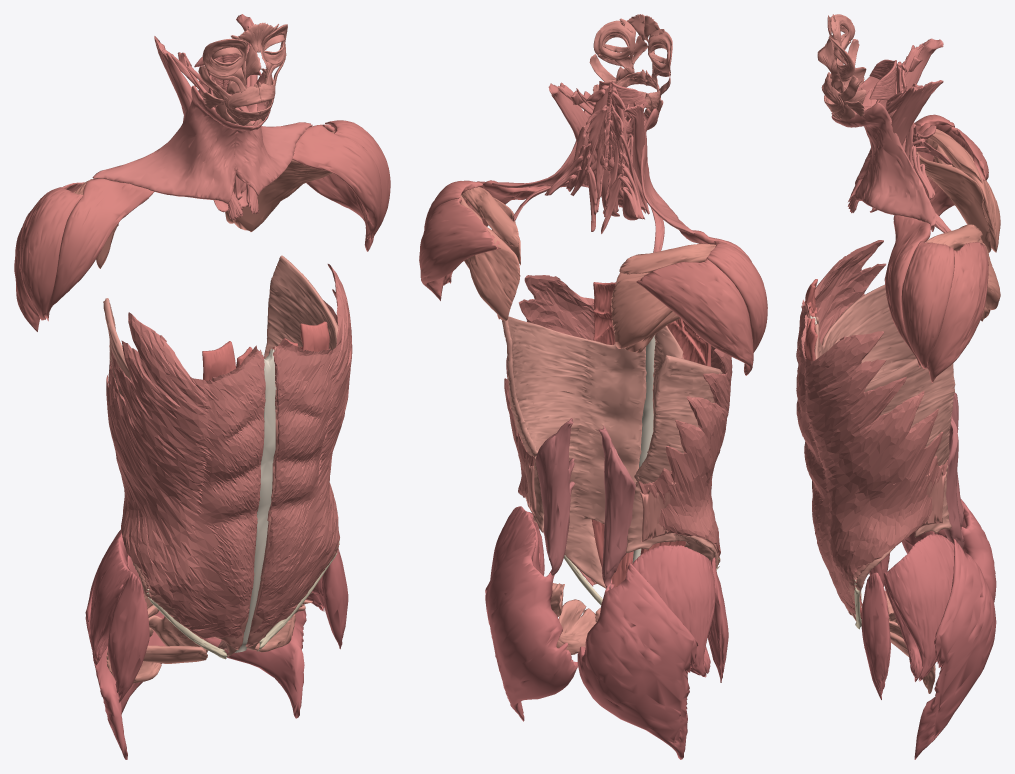
File: z-anatomy-1.3.0-muscular.glb
The picture shows the model from 3 angles, left to right: view 1: azimuth 30°, elevation 25°; view 2: azimuth 150°, elevation 25°; view 3: azimuth 270°, elevation 25°; orthographic projection. The views are drawn at different scales.
Visible parts, largest first — view 1: external-abdominal-obliques-external-abdominal-oblique-muscl (×2), neck-muscles-platysma-right__Platysma.r, deltoid-muscles-clavicular-part-of-deltoid-muscle-right__Cla, deltoid-muscles-acromial-part-of-deltoid-muscle-right__Acrom, deltoid-muscles-clavicular-part-of-deltoid-muscle-left__Clav, transversus-abdominis-transversus-abdominis-muscle-left__Tra, neck-muscles-platysma-left__Platysma.l, superficial-gluteal-muscles-tensor-fasciae-latae-right__Tens, linea-alba__Linea alba, superficial-gluteal-muscles-gluteus-maximus-muscle-left__Glu, superficial-gluteal-muscles-gluteus-medius-muscle-right__Glu, rotator-cuff-muscles-subscapularis-muscle-left__Subscapulari (+14 smaller); view 2: transversus-abdominis-transversus-abdominis-muscle-left__Tra, superficial-gluteal-muscles-gluteus-maximus-muscle-right__Gl, external-abdominal-obliques-external-abdominal-oblique-muscl (×2), superficial-gluteal-muscles-gluteus-maximus-muscle-left__Glu, transversus-abdominis-transversus-abdominis-muscle-right__Tr, deltoid-muscles-scapular-spinal-part-of-deltoid-muscle-right, superficial-gluteal-muscles-gluteus-medius-muscle-right__Glu, deltoid-muscles-scapular-spinal-part-of-deltoid-muscle-left_, quadratus-lumborum-quadratus-lumborum-muscle-left__Quadratus, quadratus-lumborum-quadratus-lumborum-muscle-right__Quadratu, rotator-cuff-muscles-infraspinatus-muscle-left__Infraspinatu, rotator-cuff-muscles-infraspinatus-muscle-right__Infraspinat (+19 smaller); view 3: external-abdominal-obliques-external-abdominal-oblique-muscl (×2), superficial-gluteal-muscles-gluteus-maximus-muscle-left__Glu, superficial-gluteal-muscles-gluteus-medius-muscle-left__Glut, neck-muscles-platysma-left__Platysma.l, deltoid-muscles-acromial-part-of-deltoid-muscle-left__Acromi, transversus-abdominis-transversus-abdominis-muscle-left__Tra, deltoid-muscles-scapular-spinal-part-of-deltoid-muscle-left_, transversus-abdominis-transversus-abdominis-muscle-right__Tr, superficial-gluteal-muscles-tensor-fasciae-latae-left__Tenso, deltoid-muscles-clavicular-part-of-deltoid-muscle-left__Clav, rotator-cuff-muscles-subscapularis-muscle-right__Subscapular, superficial-gluteal-muscles-gluteus-maximus-muscle-right__Gl (+18 smaller).
Boxes of the visible parts, bbox=[...] form: external-abdominal-obliques-external-abdominal-oblique-muscl (×2): bbox=[106, 264, 352, 638]; neck-muscles-platysma-right__Platysma.r: bbox=[92, 85, 255, 203]; deltoid-muscles-clavicular-part-of-deltoid-muscle-right__Cla: bbox=[46, 178, 154, 321]; deltoid-muscles-acromial-part-of-deltoid-muscle-right__Acrom: bbox=[19, 187, 82, 320]; deltoid-muscles-clavicular-part-of-deltoid-muscle-left__Clav: bbox=[292, 125, 381, 242]; transversus-abdominis-transversus-abdominis-muscle-left__Tra: bbox=[246, 255, 338, 650]; neck-muscles-platysma-left__Platysma.l: bbox=[234, 68, 312, 196]; superficial-gluteal-muscles-tensor-fasciae-latae-right__Tens: bbox=[108, 571, 149, 702]; linea-alba__Linea alba: bbox=[235, 348, 276, 652]; superficial-gluteal-muscles-gluteus-maximus-muscle-left__Glu: bbox=[203, 610, 306, 718]; superficial-gluteal-muscles-gluteus-medius-muscle-right__Glu: bbox=[90, 529, 130, 667]; rotator-cuff-muscles-subscapularis-muscle-left__Subscapulari: bbox=[232, 159, 332, 231]; transversus-abdominis-transversus-abdominis-muscle-left__Tra: bbox=[502, 316, 646, 588]; superficial-gluteal-muscles-gluteus-maximus-muscle-right__Gl: bbox=[577, 563, 698, 759]; external-abdominal-obliques-external-abdominal-oblique-muscl (×2): bbox=[504, 275, 732, 586]; superficial-gluteal-muscles-gluteus-maximus-muscle-left__Glu: bbox=[485, 540, 577, 721]; transversus-abdominis-transversus-abdominis-muscle-right__Tr: bbox=[625, 326, 722, 568]; deltoid-muscles-scapular-spinal-part-of-deltoid-muscle-right: bbox=[636, 258, 753, 375]; superficial-gluteal-muscles-gluteus-medius-muscle-right__Glu: bbox=[632, 545, 715, 677]; deltoid-muscles-scapular-spinal-part-of-deltoid-muscle-left_: bbox=[419, 197, 500, 300]; quadratus-lumborum-quadratus-lumborum-muscle-left__Quadratus: bbox=[535, 418, 575, 575]; quadratus-lumborum-quadratus-lumborum-muscle-right__Quadratu: bbox=[598, 425, 635, 589]; rotator-cuff-muscles-infraspinatus-muscle-left__Infraspinatu: bbox=[460, 195, 520, 320]; rotator-cuff-muscles-infraspinatus-muscle-right__Infraspinat: bbox=[611, 275, 672, 348]; external-abdominal-obliques-external-abdominal-oblique-muscl (×2): bbox=[796, 240, 947, 614]; superficial-gluteal-muscles-gluteus-maximus-muscle-left__Glu: bbox=[914, 538, 996, 759]; superficial-gluteal-muscles-gluteus-medius-muscle-left__Glut: bbox=[883, 534, 954, 681]; neck-muscles-platysma-left__Platysma.l: bbox=[831, 103, 936, 226]; deltoid-muscles-acromial-part-of-deltoid-muscle-left__Acromi: bbox=[901, 241, 954, 369]; transversus-abdominis-transversus-abdominis-muscle-left__Tra: bbox=[814, 323, 955, 621]; deltoid-muscles-scapular-spinal-part-of-deltoid-muscle-left_: bbox=[927, 242, 988, 382]; transversus-abdominis-transversus-abdominis-muscle-right__Tr: bbox=[815, 284, 915, 382]; superficial-gluteal-muscles-tensor-fasciae-latae-left__Tenso: bbox=[861, 572, 890, 699]; deltoid-muscles-clavicular-part-of-deltoid-muscle-left__Clav: bbox=[884, 215, 930, 367]; rotator-cuff-muscles-subscapularis-muscle-right__Subscapular: bbox=[916, 151, 991, 252]; superficial-gluteal-muscles-gluteus-maximus-muscle-right__Gl: bbox=[914, 499, 996, 681].
Size of the model in its own units: 0.4699 by 0.9207 by 0.2423.
